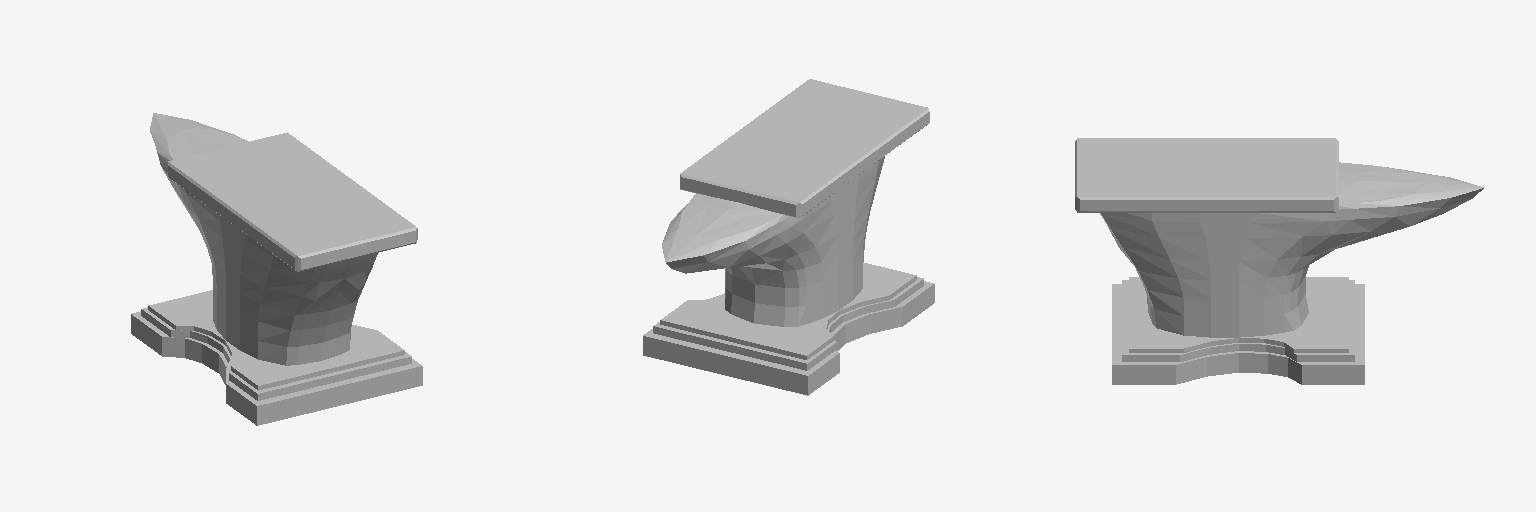
Rendered from Anvil_GB.obj.
3 views of the same model, side by side, from view 1: azimuth 30°, elevation 25°; view 2: azimuth 150°, elevation 25°; view 3: azimuth 270°, elevation 25° (orthographic).
Visible parts, largest first — view 1: Cube; view 2: Cube; view 3: Cube.
Part boxes in pixels (left/top/right/bottom): Cube: left=131, top=113, right=422, bottom=425; Cube: left=643, top=79, right=934, bottom=395; Cube: left=1075, top=138, right=1483, bottom=384.
Size of the model in its own units: 2.27 by 2.32 by 4.87.